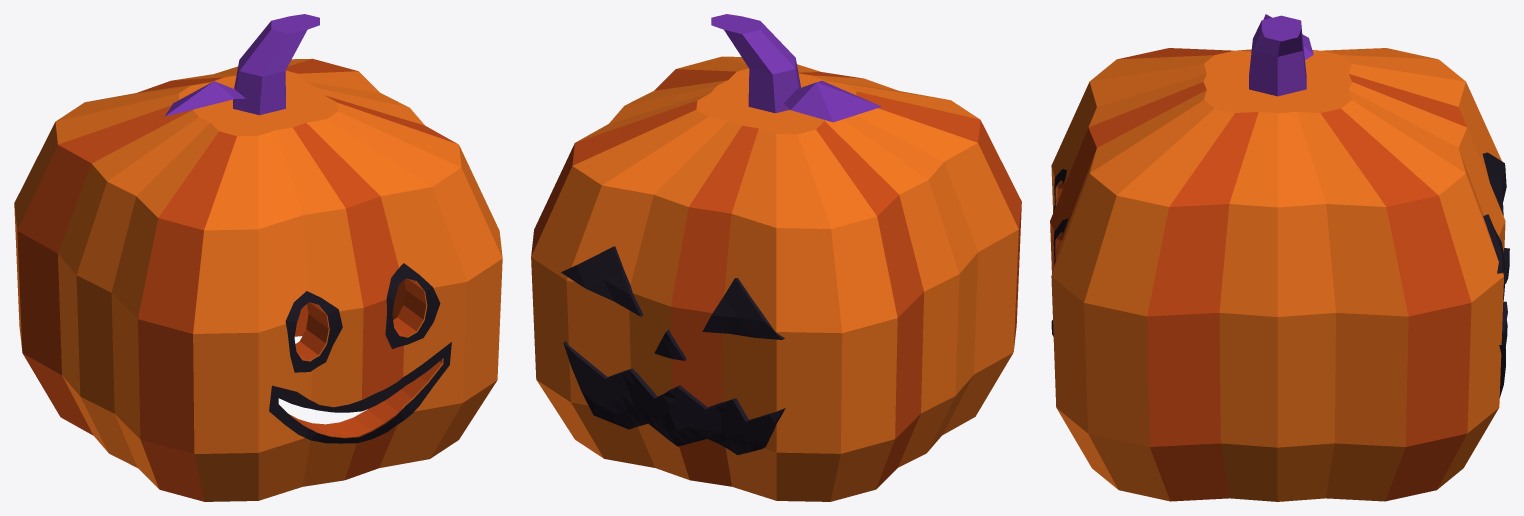
Rendered from HalloweenPumpkin.fbx.
3 views of the same model, side by side, from view 1: azimuth 30°, elevation 25°; view 2: azimuth 150°, elevation 25°; view 3: azimuth 270°, elevation 25° (orthographic). The views are drawn at different scales.
Visible parts, largest first — view 1: Handle, PumpkinShade, FaceBlack, Purple; view 2: Handle, PumpkinShade, FaceBlack, Purple; view 3: Handle, PumpkinShade, Purple, FaceBlack.
Boxes of the visible parts, x1,y1,x2,y2 form: Handle: [14, 58, 502, 501]; PumpkinShade: [17, 59, 457, 501]; FaceBlack: [269, 263, 451, 443]; Purple: [164, 14, 319, 116]; Handle: [531, 56, 1018, 501]; PumpkinShade: [531, 69, 1021, 489]; FaceBlack: [561, 246, 785, 455]; Purple: [711, 14, 881, 122]; Handle: [1051, 48, 1505, 501]; PumpkinShade: [1050, 48, 1471, 501]; Purple: [1249, 14, 1313, 96]; FaceBlack: [1051, 152, 1509, 397].
Size of the model in its own units: 1.9 by 1.91 by 1.92.
